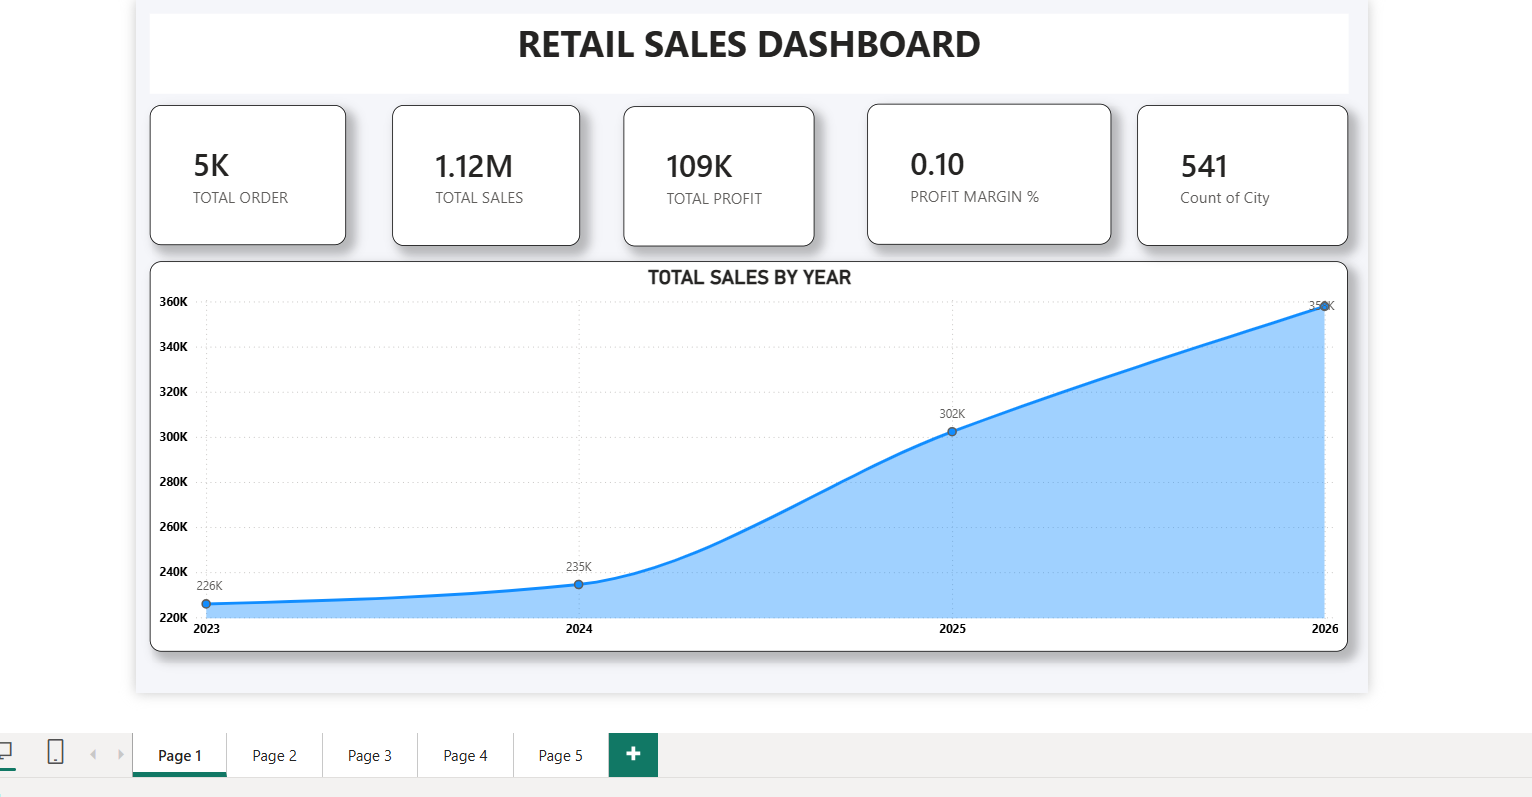

Layout of this report page (visuals, bound fields, positions):
{"tool":"powerbi","page":{"name":"Page 1","canvas":[1280,720],"ordinal":0},"visuals":[{"type":"cardVisual","title":"TOTAL SALES","fields":{"Data":["Orders.total sales"]},"box":[266.2,109.1,194.8,146.8],"z":0},{"type":"cardVisual","fields":{"Data":["Orders.total profit"]},"box":[506.5,110.4,198.7,145.5],"z":1000},{"type":"cardVisual","fields":{"Data":["Orders.total order"]},"box":[14.3,109.1,203.9,145.5],"z":2000},{"type":"cardVisual","fields":{"Data":["Orders.profit margin %"]},"box":[759.7,107.8,253.2,146.8],"z":3000},{"type":"lineChart","title":"TOTAL SALES BY YEAR","fields":{"Category":["Orders.Order Date.Variation.Date Hierarchy.Year","Orders.Order Date.Variation.Date Hierarchy.Quarter","Orders.Order Date.Variation.Date Hierarchy.Month","Orders.Order Date.Variation.Date Hierarchy.Day"],"Y":["Orders.total sales"]},"box":[14.5,271.4,1245,405.4],"z":4000},{"type":"cardVisual","fields":{"Data":["Count(Orders.City)"]},"box":[1040.3,109.1,219.5,146.8],"z":5001},{"type":"textbox","box":[14.3,14.3,1245.5,83.1],"z":5002}]}

Visuals, with their boxes on the page's 1280x720 design canvas (x1, y1, x2, y2). These are canvas units, not pixel positions in the 1532x797 screenshot, which may show the page scaled, cropped or inside an application window:
"TOTAL SALES" cardVisual: [x1=266, y1=109, x2=461, y2=256]
cardVisual - Orders.total profit: [x1=506, y1=110, x2=705, y2=256]
cardVisual - Orders.total order: [x1=14, y1=109, x2=218, y2=255]
cardVisual - Orders.profit margin %: [x1=760, y1=108, x2=1013, y2=255]
"TOTAL SALES BY YEAR" lineChart: [x1=14, y1=271, x2=1260, y2=677]
cardVisual - Count(Orders.City): [x1=1040, y1=109, x2=1260, y2=256]
textbox: [x1=14, y1=14, x2=1260, y2=97]
